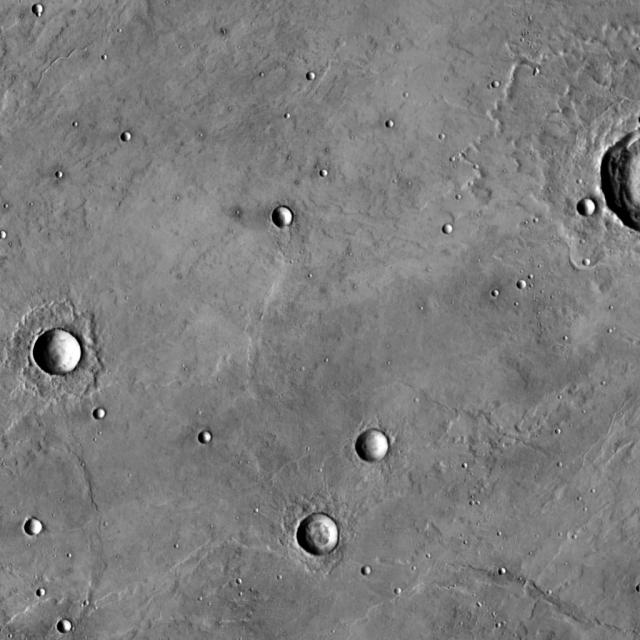crater: (40, 331, 88, 378), (304, 516, 346, 558), (362, 431, 395, 463), (278, 208, 300, 228), (583, 200, 602, 218), (30, 520, 47, 538), (63, 623, 76, 636), (205, 434, 216, 444), (126, 134, 136, 144), (369, 568, 379, 578), (100, 411, 110, 421), (586, 260, 596, 270), (39, 7, 49, 16), (312, 74, 322, 83), (449, 225, 458, 234), (390, 120, 399, 129), (324, 170, 334, 178), (41, 592, 49, 600), (496, 82, 504, 90), (60, 172, 68, 180), (496, 290, 504, 298), (503, 568, 511, 576), (392, 580, 400, 588), (518, 276, 524, 283), (283, 106, 289, 112), (438, 128, 443, 134), (0, 227, 4, 233)
